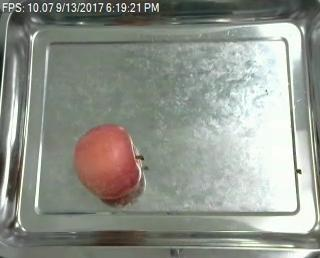apple: (73, 124, 151, 200)
